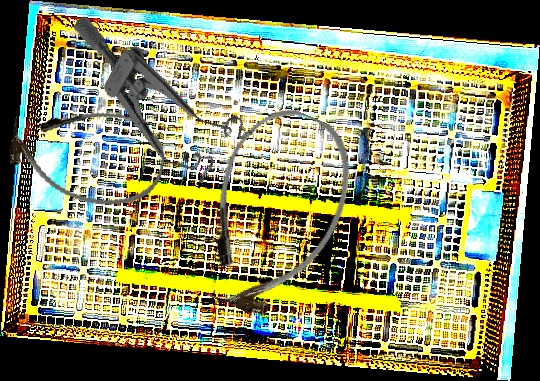Cannula: (175, 93, 374, 332), (2, 94, 172, 216)
Speculum: (36, 13, 264, 195)
